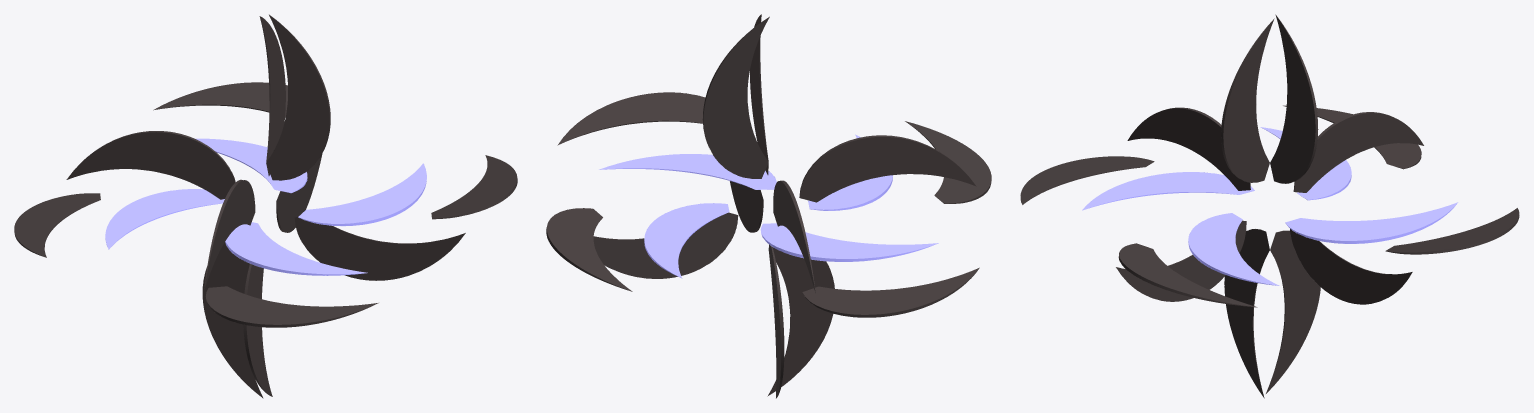
3 renders of one model, left to right at view 1: azimuth 30°, elevation 25°; view 2: azimuth 150°, elevation 25°; view 3: azimuth 270°, elevation 25°, orthographic.
Visible parts, largest first — view 1: オブジェクト_12, オブジェクト_14, オブジェクト_16, オブジェクト_8, オブジェクト_10, オブジェクト_4, オブジェクト_1, オブジェクト_2, オブジェクト_7, オブジェクト_5, オブジェクト_6, オブジェクト_11 (+4 smaller); view 2: オブジェクト_13, オブジェクト_11, オブジェクト_9, オブジェクト_15, オブジェクト_7, オブジェクト_5, オブジェクト_6, オブジェクト_2, オブジェクト_3, オブジェクト_8, オブジェクト_4, オブジェクト_1 (+4 smaller); view 3: オブジェクト_12, オブジェクト_11, オブジェクト_14, オブジェクト_15, オブジェクト_10, オブジェクト_13, オブジェクト_9, オブジェクト_3, オブジェクト_4, オブジェクト_1, オブジェクト_5, オブジェクト_8 (+4 smaller).
Part boxes in pixels (box(x1,y1,x2,y2)): オブジェクト_12: box(266, 14, 330, 180); オブジェクト_14: box(66, 131, 235, 199); オブジェクト_16: box(294, 216, 465, 280); オブジェクト_8: box(205, 286, 378, 327); オブジェクト_10: box(202, 242, 263, 398); オブジェクト_4: box(298, 163, 426, 226); オブジェクト_1: box(225, 222, 367, 275); オブジェクト_2: box(105, 189, 224, 249); オブジェクト_7: box(14, 193, 100, 257); オブジェクト_5: box(431, 155, 517, 219); オブジェクト_6: box(153, 82, 287, 117); オブジェクト_11: box(259, 16, 285, 175); オブジェクト_13: box(799, 135, 976, 202); オブジェクト_11: box(702, 16, 769, 178); オブジェクト_9: box(767, 247, 834, 396); オブジェクト_15: box(593, 212, 738, 278); オブジェクト_7: box(802, 267, 979, 317); オブジェクト_5: box(557, 92, 705, 145); オブジェクト_6: box(546, 208, 632, 291); オブジェクト_2: box(761, 223, 938, 261); オブジェクト_3: box(644, 203, 729, 278); オブジェクト_8: box(905, 121, 991, 203); オブジェクト_4: box(599, 154, 776, 189); オブジェクト_1: box(808, 134, 892, 210); オブジェクト_12: box(1221, 18, 1274, 182); オブジェクト_11: box(1270, 14, 1318, 183); オブジェクト_14: box(1293, 112, 1423, 192); オブジェクト_15: box(1290, 229, 1412, 304); オブジェクト_10: box(1266, 230, 1320, 393); オブジェクト_13: box(1127, 107, 1250, 190); オブジェクト_9: box(1224, 229, 1269, 398); オブジェクト_3: box(1285, 202, 1457, 243); オブジェクト_4: box(1188, 213, 1279, 285); オブジェクト_1: box(1082, 172, 1254, 210); オブジェクト_5: box(1118, 243, 1257, 307); オブジェクト_8: box(1020, 156, 1154, 204).
Bounding box in the file's own units: 141049 × 141045 × 118842.
